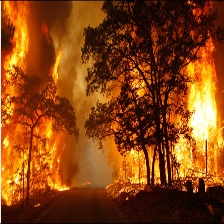fire: (101, 17, 224, 197), (1, 2, 33, 207), (36, 116, 67, 192), (50, 50, 63, 97)
smoke: (36, 3, 95, 82)
